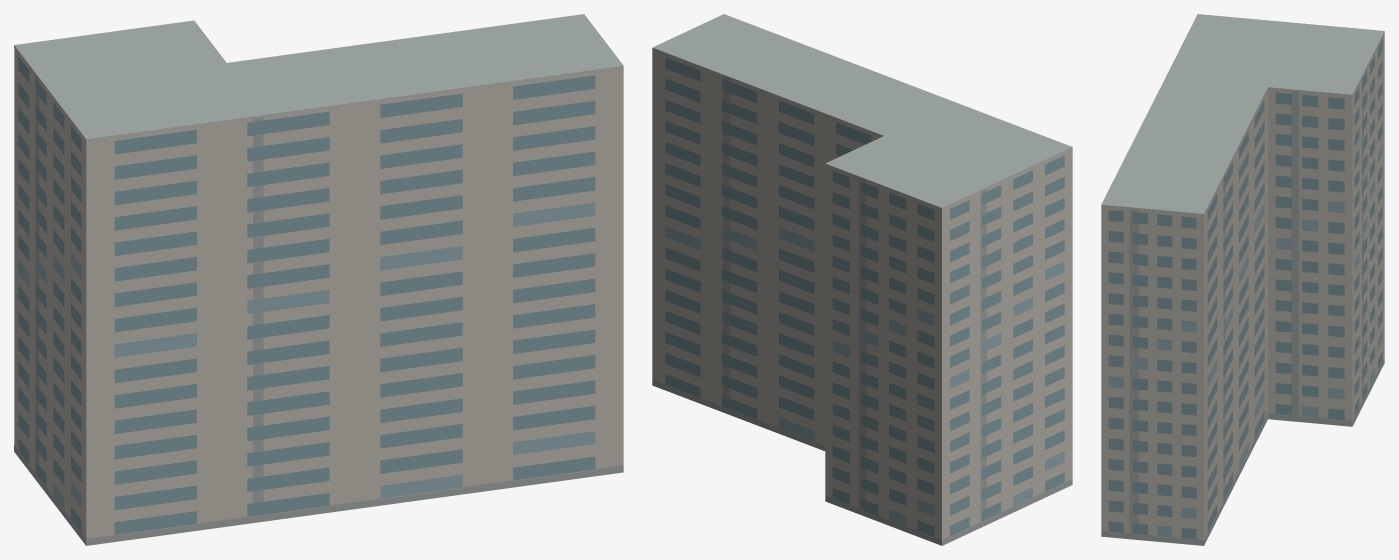
Rendered from residential-1e6ab290-1b60-40ac-85f9-422ce64c66d7.glb.
3 views of the same model, side by side, from view 1: azimuth 30°, elevation 25°; view 2: azimuth 150°, elevation 25°; view 3: azimuth 270°, elevation 25° (orthographic). The views are drawn at different scales.
Visible parts, largest first — view 1: residential-1e6ab290-1b60-40ac-85f9-422ce64c66d7.tmp; view 2: residential-1e6ab290-1b60-40ac-85f9-422ce64c66d7.tmp; view 3: residential-1e6ab290-1b60-40ac-85f9-422ce64c66d7.tmp.
Boxes of the visible parts, bbox=[...] form: residential-1e6ab290-1b60-40ac-85f9-422ce64c66d7.tmp: bbox=[14, 14, 623, 545]; residential-1e6ab290-1b60-40ac-85f9-422ce64c66d7.tmp: bbox=[652, 14, 1072, 545]; residential-1e6ab290-1b60-40ac-85f9-422ce64c66d7.tmp: bbox=[1101, 14, 1384, 545].
Size of the model in its own units: 60.71 by 47 by 36.38.
